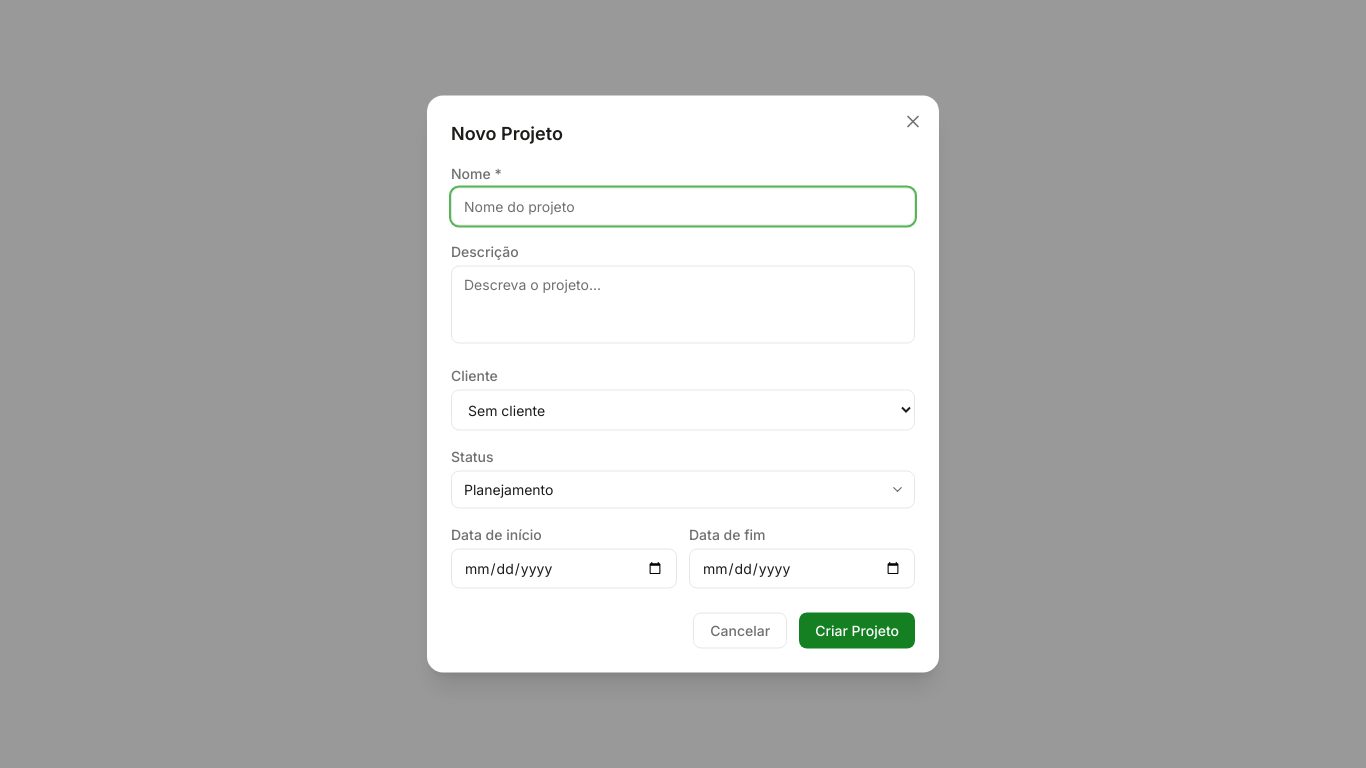
it: ProjectDialog › should reject an end date earlier than the start date
This screenshot has width=1366, height=768.
Type "Projeto Levedura" into the field labelled "Nome *" at (683, 206), box [451,188,915,226]
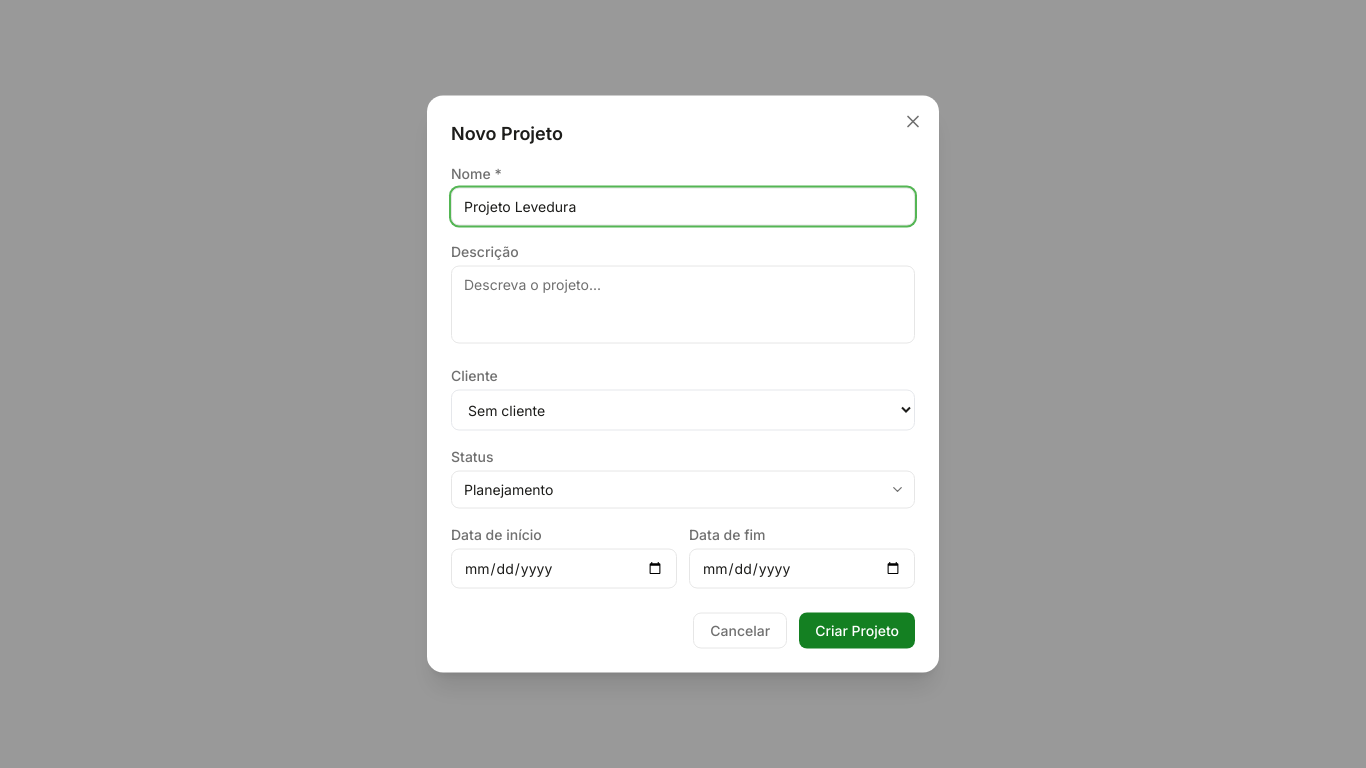
Type "2026-08-10" into the date field labelled "Data de início" at (564, 568), box [451,548,677,588]
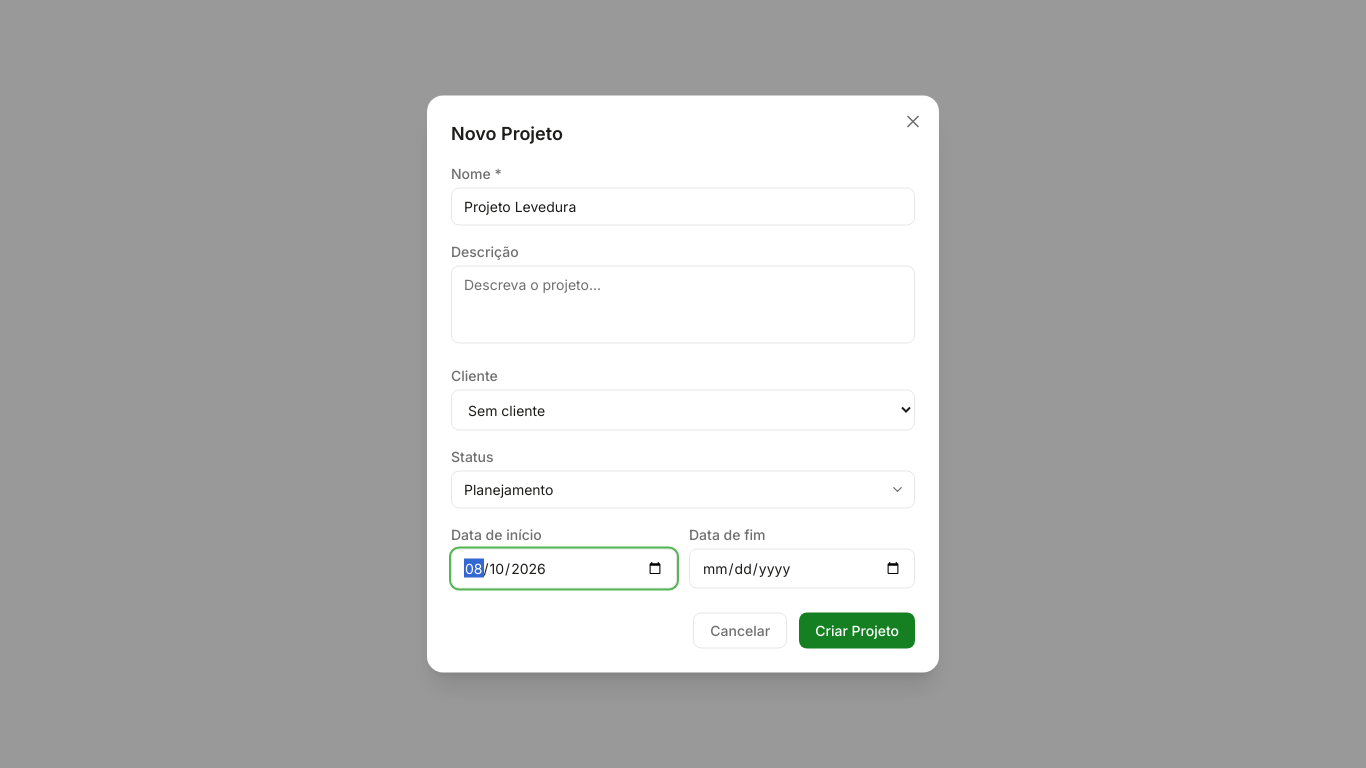
Type "2026-08-01" into the date field labelled "Data de fim" at (802, 568), box [689,548,915,588]
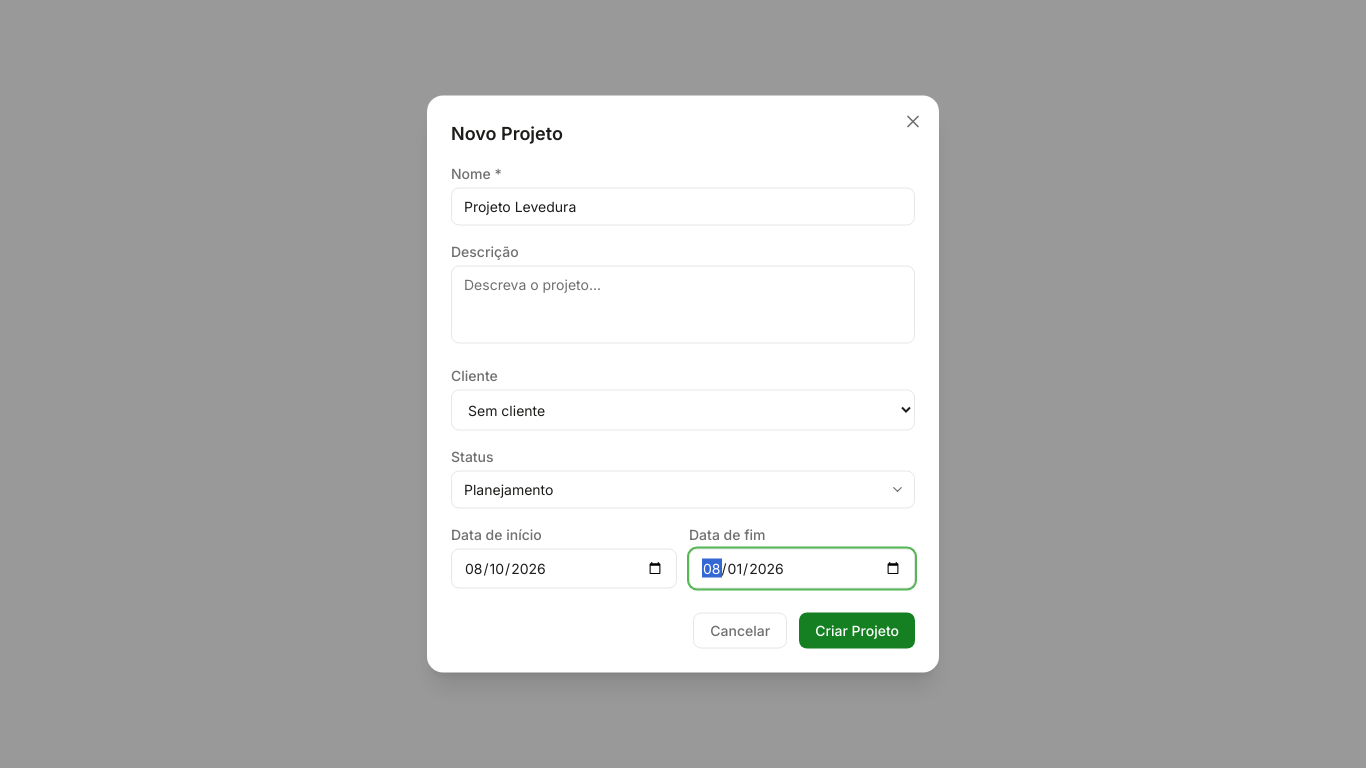
Click the button "Criar Projeto" at (857, 630), box [799,612,915,648]
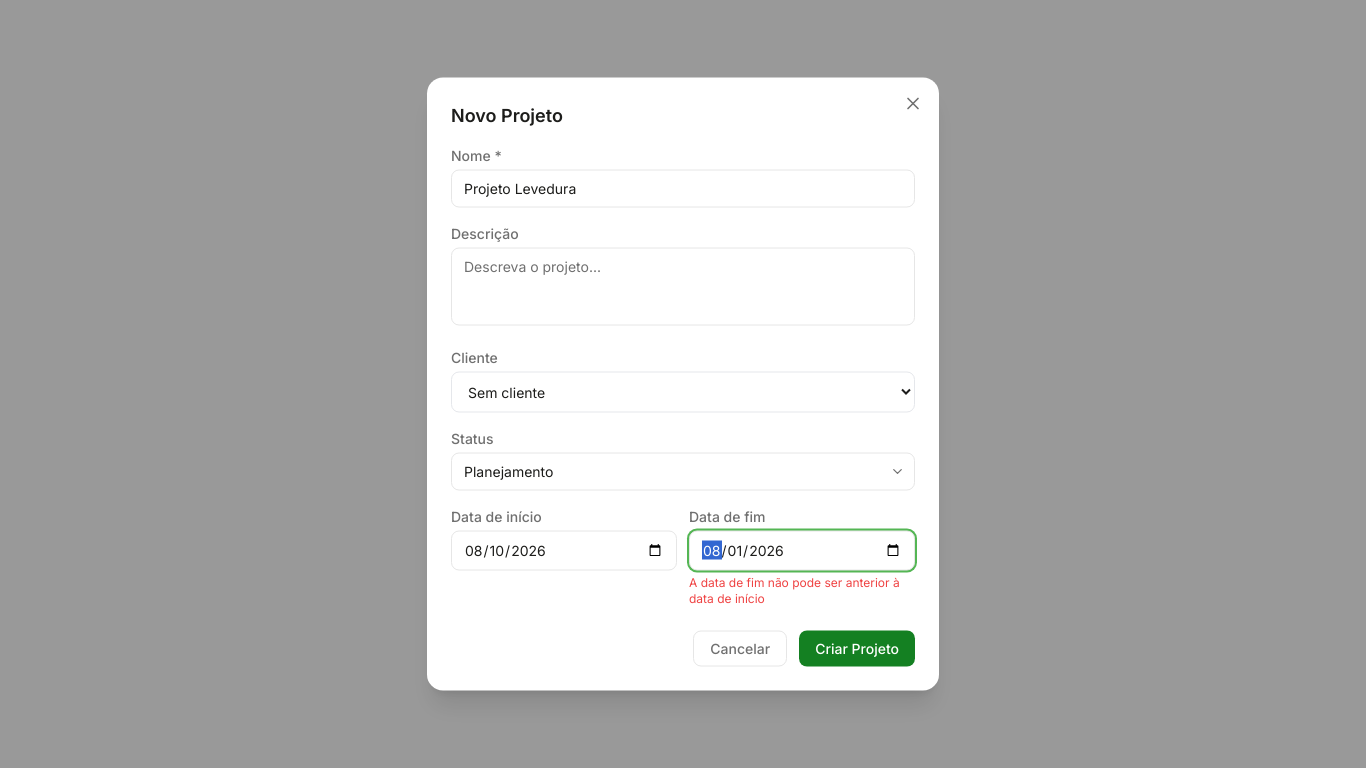
Expected: the text "A data de fim não pode ser anterior à data de início" is shown, [689,574,915,606]
